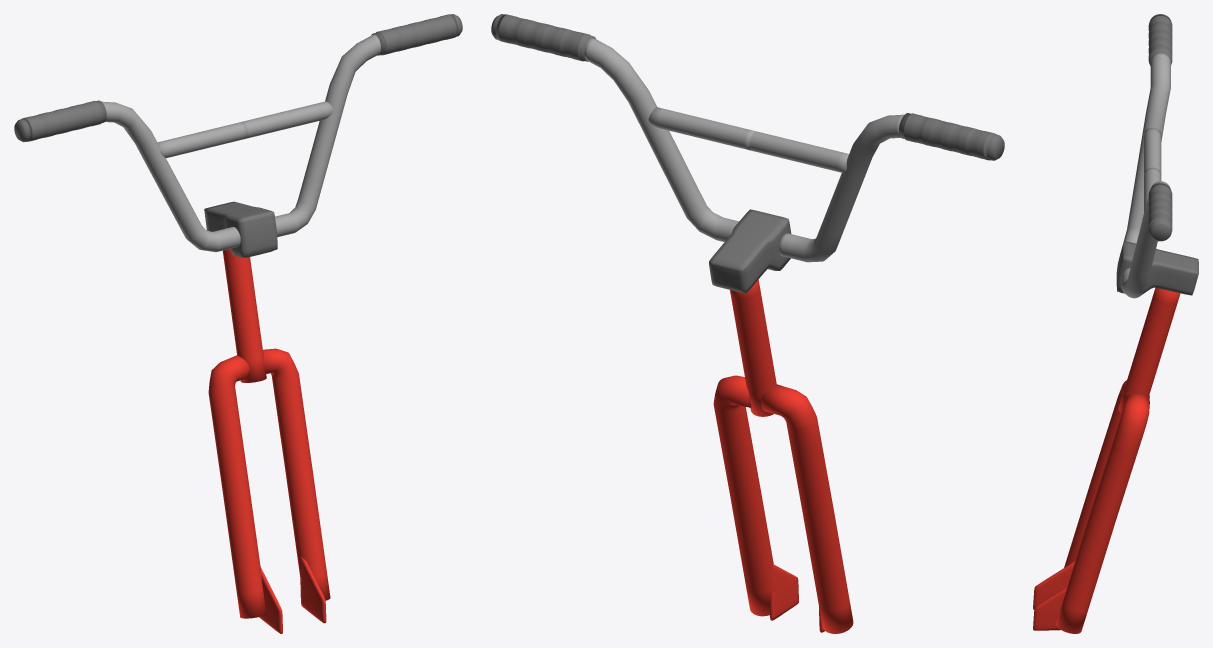
File: handlebar.dae
3 renders of one model, left to right at view 1: azimuth 30°, elevation 25°; view 2: azimuth 150°, elevation 25°; view 3: azimuth 270°, elevation 25°, orthographic. The views are drawn at different scales.
Parts seen in each view (by area): view 1: Cylinder.019, Cylinder.018, Cylinder.016, Cylinder.020, Cube, Cylinder.017; view 2: Cylinder.019, Cylinder.018, Cylinder.016, Cube, Cylinder.020, Cylinder.017; view 3: Cylinder.019, Cylinder.018, Cylinder.020, Cube, Cylinder.016, Cylinder.017.
Boxes of the visible parts, bbox=[...] form: Cylinder.019: bbox=[208, 348, 330, 633]; Cylinder.018: bbox=[102, 34, 380, 252]; Cylinder.016: bbox=[21, 14, 458, 141]; Cylinder.020: bbox=[222, 249, 266, 382]; Cube: bbox=[204, 201, 277, 257]; Cylinder.017: bbox=[14, 14, 462, 142]; Cylinder.019: bbox=[713, 375, 853, 633]; Cylinder.018: bbox=[584, 37, 904, 262]; Cylinder.016: bbox=[496, 14, 997, 160]; Cube: bbox=[709, 209, 791, 293]; Cylinder.020: bbox=[730, 279, 776, 416]; Cylinder.017: bbox=[491, 14, 1004, 160]; Cylinder.019: bbox=[1033, 380, 1149, 633]; Cylinder.018: bbox=[1121, 53, 1170, 298]; Cylinder.020: bbox=[1118, 288, 1180, 413]; Cube: bbox=[1116, 241, 1198, 295]; Cylinder.016: bbox=[1148, 15, 1172, 231]; Cylinder.017: bbox=[1149, 14, 1171, 241].
Size of the model in its own units: 3.81 by 1.27 by 4.25.
